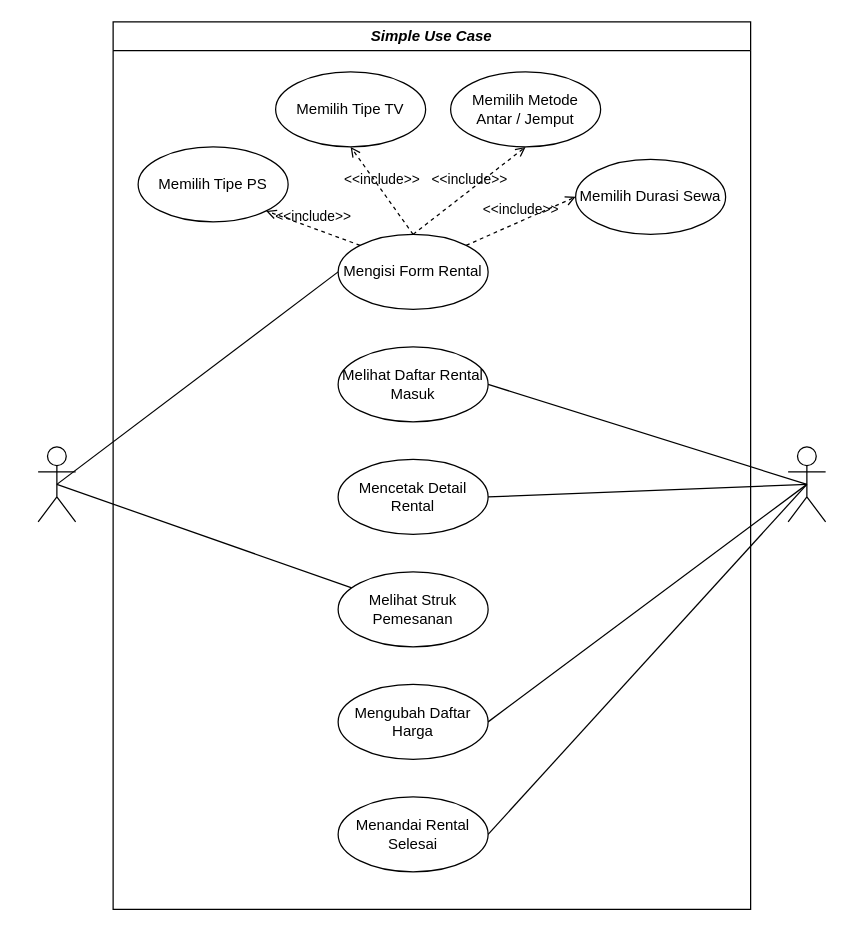
This 850x931 diagram has some shape labels left out. The shapes that lost their labels are listed below. From the top down, each one's centre as x and y in pixels, then its label:
At pixel 56 484: "Pelanggan".
At pixel 806 484: "Admin".
